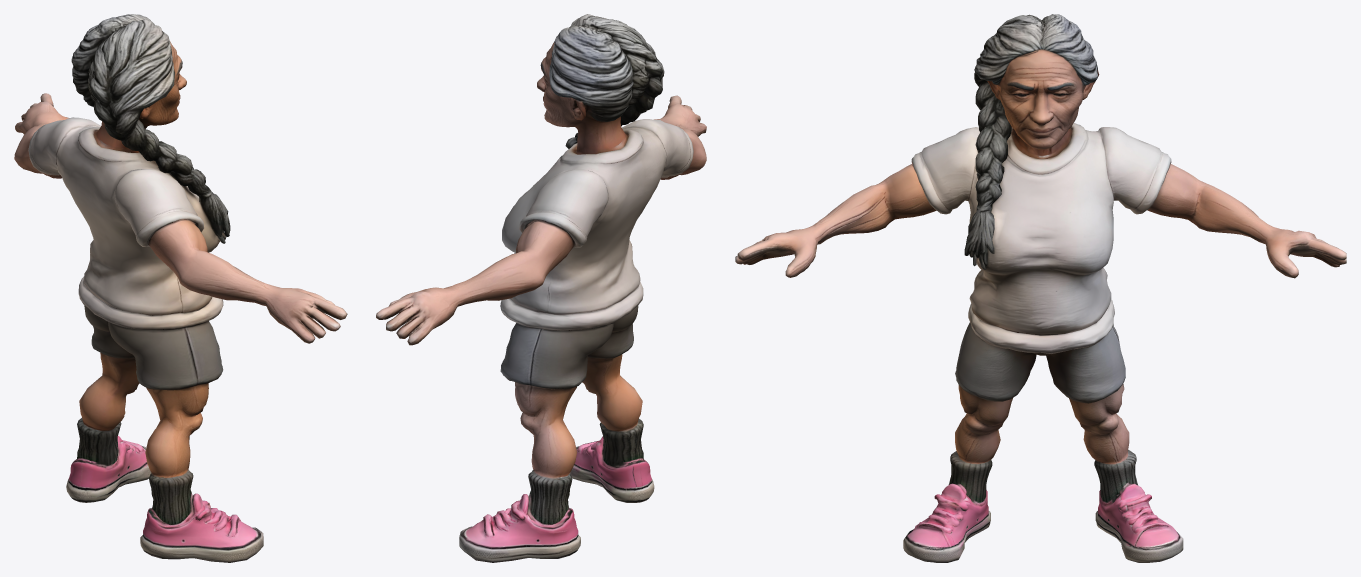
The picture shows the model from 3 angles, left to right: view 1: azimuth 30°, elevation 25°; view 2: azimuth 150°, elevation 25°; view 3: azimuth 270°, elevation 25°; orthographic projection.
Visible parts, largest first — view 1: tripo_node_0f637faa; view 2: tripo_node_0f637faa; view 3: tripo_node_0f637faa.
Part boxes in pixels (<box>): tripo_node_0f637faa: <box>14,14,347,562</box>; tripo_node_0f637faa: <box>376,14,706,562</box>; tripo_node_0f637faa: <box>735,14,1346,562</box>.
Bounding box in the file's own units: 0.2524 × 0.9198 × 0.9961.
1 material, 1 textured.
